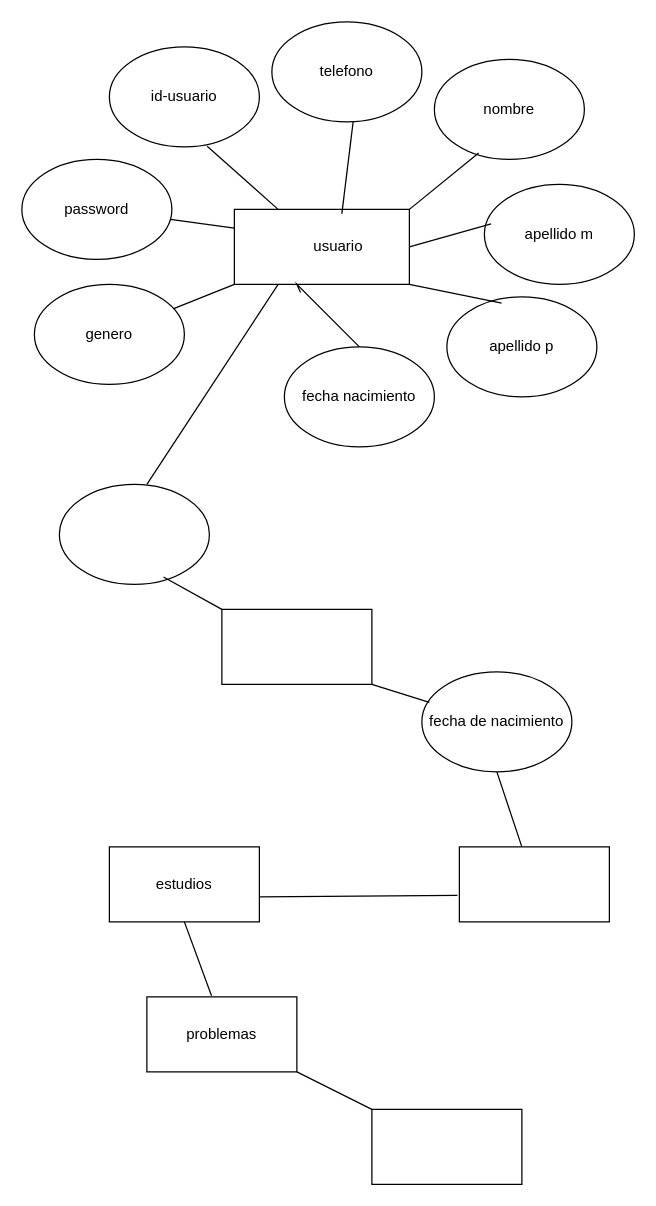
Some shapes in this 656 by 1206 pixel diagram are drawn without their labels. Each missing label, with the centre of its shape:
edad: point (133, 533)
eduación: point (533, 884)
medios de comunicación: point (446, 1146)
paciente: point (296, 646)
